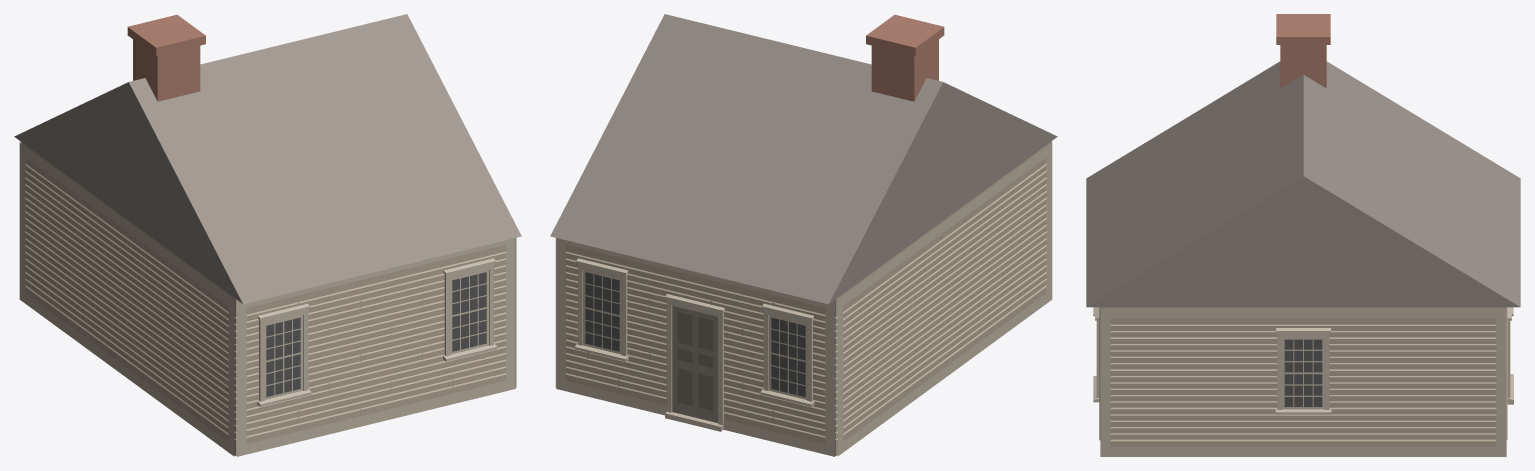
The model's file is inf_carpenter_dwelling_north__inferred_1835.glb.
The picture shows the model from 3 angles, left to right: view 1: azimuth 30°, elevation 25°; view 2: azimuth 150°, elevation 25°; view 3: azimuth 270°, elevation 25°; orthographic projection. The views are drawn at different scales.
Visible parts, largest first — view 1: inf_carpenter_dwelling_north__inferred_1835; view 2: inf_carpenter_dwelling_north__inferred_1835; view 3: inf_carpenter_dwelling_north__inferred_1835.
Boxes of the visible parts, x1,y1,x2,y2 form: inf_carpenter_dwelling_north__inferred_1835: (14,14,521,456); inf_carpenter_dwelling_north__inferred_1835: (550,14,1057,456); inf_carpenter_dwelling_north__inferred_1835: (1086,14,1520,456).
Bounding box in the file's own units: 5.64 × 6.34 × 7.82.
